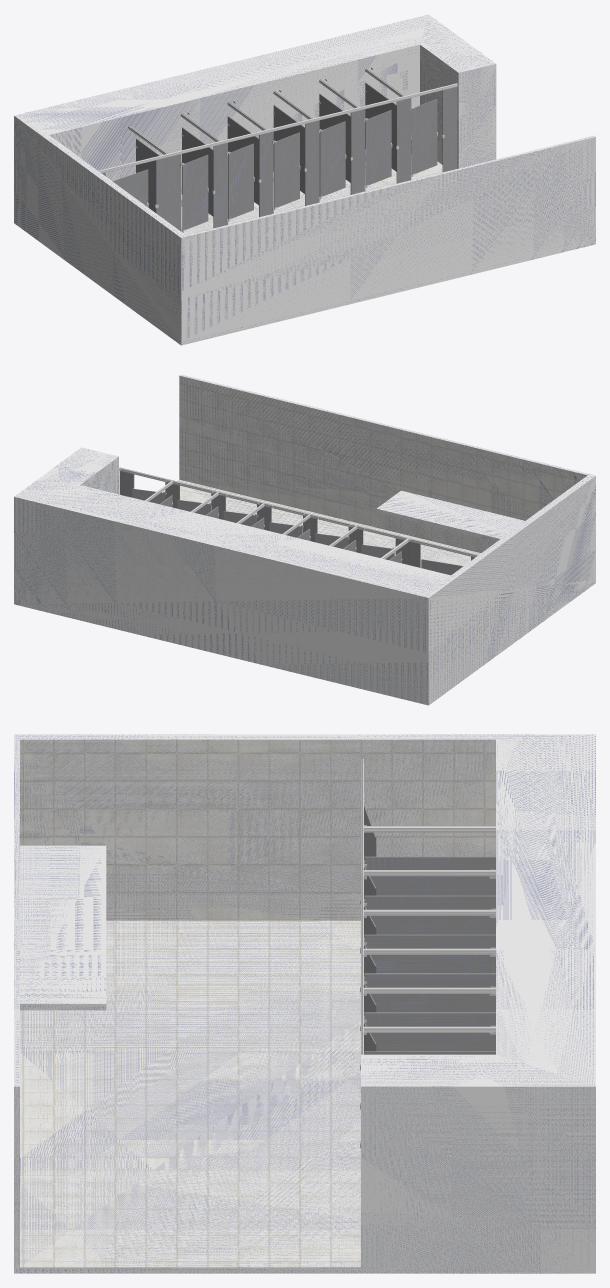
The picture shows the model from 3 angles, top to bottom: view 1: azimuth 30°, elevation 25°; view 2: azimuth 150°, elevation 25°; view 3: azimuth 270°, elevation 25°; orthographic projection. The views are drawn at different scales.
Parts seen in each view (by area): view 1: SketchUp (×2), group_7, _24__HPL_Door_1 (×7), HPL_Pilaster_3 (×8), _60__HPL_Screen_1 (×6); view 2: SketchUp (×3); view 3: SketchUp (×3), _60__HPL_Screen_1 (×5), Group_24 (×6).
Boxes of the visible parts, x1,y1,x2,y2 form: SketchUp (×2): (14, 14, 595, 345); group_7: (49, 44, 419, 206); _24__HPL_Door_1 (×7): (112, 99, 437, 230); HPL_Pilaster_3 (×8): (156, 87, 457, 230); _60__HPL_Screen_1 (×6): (136, 82, 396, 216); SketchUp (×3): (14, 374, 595, 705); SketchUp (×3): (14, 734, 595, 1273); _60__HPL_Screen_1 (×5): (364, 856, 495, 1051); Group_24 (×6): (364, 826, 495, 1032).
Size of the model in its own units: 163 by 114 by 40.28.
Materials: 14 (1 with a texture image).
